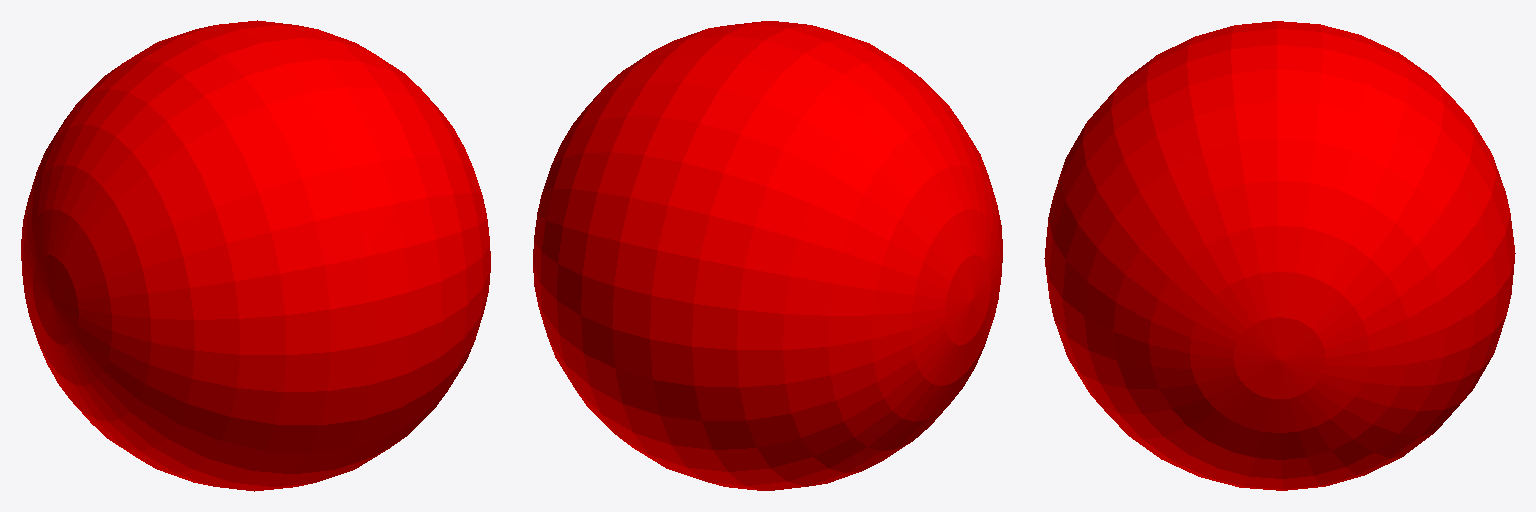
robot.urdf — panda:
<?xml version='1.0' encoding='utf-8'?>
<robot name="panda">
  
  <link name="panda_link0">
    <visual>
      <geometry>
        <mesh filename="../meshes/panda/link0.dae" />
      </geometry>
    </visual>
  </link>
  <link name="panda_link1">
    <visual>
      <geometry>
        <mesh filename="../meshes/panda/link1.dae" />
      </geometry>
    </visual>
  </link>
  
  
  <joint name="panda_joint1" type="revolute">
    <origin rpy="8.366805516041043e-06 8.814350308898128e-08 2.4513630387076608e-17" xyz="-1.2758753865242616e-16 -5.2222054042510136e-17 0.333" />
    <parent link="panda_link0" />
    <child link="panda_link1" />
    <axis xyz="0 0 1" />
    <limit effort="87.0" lower="-2.8973" upper="2.8973" velocity="2.175" />
    <safety_controller k_position="100.0" k_velocity="40.0" soft_lower_limit="-2.8973" soft_upper_limit="2.8973" />
  </joint>
  
  <link name="panda_link2">
    <visual>
      <geometry>
        <mesh filename="../meshes/panda/link2.dae" />
      </geometry>
    </visual>
  </link>
  
  <joint name="panda_joint2" type="revolute">
    <origin rpy="-1.5725347107345484 0.0009255042963167639 -2.2321032908662564e-15" xyz="-0.00019417564815309772 -0.00018772077543271004 1.796911857934499e-17" />
    <parent link="panda_link1" />
    <child link="panda_link2" />
    <axis xyz="0 0 1" />
    <limit effort="87.0" lower="-1.7628" upper="1.7628" velocity="2.175" />
    <safety_controller k_position="100.0" k_velocity="40.0" soft_lower_limit="-1.7628" soft_upper_limit="1.7628" />
  </joint>
  
  <link name="panda_link3">
    <visual>
      <geometry>
        <mesh filename="../meshes/panda/link3.dae" />
      </geometry>
    </visual>
  </link>
  
  <joint name="panda_joint3" type="revolute">
    <origin rpy="1.5720487481374692 0.00011271550591184526 0.0008189810488676046" xyz="0.0003371033096498455 -0.31626505724737547 -0.0001877201793910496" />
    <parent link="panda_link2" />
    <child link="panda_link3" />
    <axis xyz="0 0 1" />
    <limit effort="87.0" lower="-2.8973" upper="2.8973" velocity="2.175" />
    <safety_controller k_position="100.0" k_velocity="40.0" soft_lower_limit="-2.8973" soft_upper_limit="2.8973" />
  </joint>
  
  <link name="panda_link4">
    <visual>
      <geometry>
        <mesh filename="../meshes/panda/link4.dae" />
      </geometry>
    </visual>
  </link>
  
  <joint name="panda_joint4" type="revolute">
    <origin rpy="1.5741434757926136 0.011776708120902118 -9.025189862699405e-05" xyz="0.08250428687456778 -0.0002847200612681194 0.0002655680887159182" />
    <parent link="panda_link3" />
    <child link="panda_link4" />
    <axis xyz="0 0 1" />
    <limit effort="87.0" lower="-3.0718" upper="-0.0698" velocity="2.175" />
    <safety_controller k_position="100.0" k_velocity="40.0" soft_lower_limit="-3.0718" soft_upper_limit="-0.0698" />
  </joint>
  
  <link name="panda_link5">
    <visual>
      <geometry>
        <mesh filename="../meshes/panda/link5.dae" />
      </geometry>
    </visual>
  </link>
  
  <joint name="panda_joint5" type="revolute">
    <origin rpy="-1.569359416779495 0.005129171736623614 -0.01022805489571219" xyz="-0.07866941844576122 0.38493907517903264 0.000283829074942361" />
    <parent link="panda_link4" />
    <child link="panda_link5" />
    <axis xyz="0 0 1" />
    <limit effort="12.0" lower="-2.8973" upper="2.8973" velocity="2.61" />
    <safety_controller k_position="100.0" k_velocity="40.0" soft_lower_limit="-2.8973" soft_upper_limit="2.8973" />
  </joint>
  
  <link name="panda_link6">
    <visual>
      <geometry>
        <mesh filename="../meshes/panda/link6.dae" />
      </geometry>
    </visual>
  </link>
  
  <joint name="panda_joint6" type="revolute">
    <origin rpy="1.5705258868617893 -0.00043533480446275005 0.005114480048959338" xyz="0.0006537446895798644 -1.275492785867517e-05 0.0009786397273711831" />
    <parent link="panda_link5" />
    <child link="panda_link6" />
    <axis xyz="0 0 1" />
    <limit effort="12.0" lower="-0.0175" upper="3.7525" velocity="2.61" />
    <safety_controller k_position="100.0" k_velocity="40.0" soft_lower_limit="-0.0175" soft_upper_limit="3.7525" />
  </joint>
  
  <link name="panda_link7">
    <visual>
      <geometry>
        <mesh filename="../meshes/panda/link7.dae" />
      </geometry>
    </visual>
  </link>
  
  <joint name="panda_joint7" type="revolute">
    <origin rpy="1.5707208785930096 2.6320186308338895e-08 0.0005154940135814471" xyz="0.0902493646325364 -0.0008951821978016663 1.636289653042385e-05" />
    <parent link="panda_link6" />
    <child link="panda_link7" />
    <axis xyz="0 0 1" />
    <limit effort="12.0" lower="-2.8973" upper="2.8973" velocity="2.61" />
    <safety_controller k_position="100.0" k_velocity="40.0" soft_lower_limit="-2.8973" soft_upper_limit="2.8973" />
  </joint>
  <link name="panda_link8" />
  <joint name="panda_joint8" type="fixed">
    <origin rpy="0 0 0" xyz="0 0 0.107" />
    <parent link="panda_link7" />
    <child link="panda_link8" />
  </joint>
  <joint name="panda_hand_joint" type="fixed">
    <parent link="panda_link8" />
    <child link="panda_hand" />
    <origin rpy="0 0 -0.7853981633974483" xyz="0 0 0" />
  </joint>
  
  <link name="panda_hand">
    <visual>
      <geometry>
        <mesh filename="../meshes/panda/hand.dae" />
      </geometry>
    </visual>
  </link>
  <link name="panda_hand_tcp" />
  <joint name="panda_hand_tcp_joint" type="fixed">
    <origin rpy="0 0 0" xyz="0 0 0.1034" />
    <parent link="panda_hand" />
    <child link="panda_hand_tcp" />
  </joint>
  <link name="ball_link">
    <visual>
      <material name="red">
        <color rgba="1 0 0 1" />
      </material>

      <geometry>
        <sphere radius="0.005" />
      </geometry>
    </visual>
  </link>

  <joint name="ball_joint" type="fixed">
    <origin rpy="0.0 0.0 0.0" xyz="0.00037990524928465026 -4.420572608777121e-05 0.03102464075322382" />
    <parent link="panda_hand_tcp" />
    <child link="ball_link" />
  </joint>
  
  <link name="panda_leftfinger">
    <visual>
      <geometry>
        <mesh filename="../meshes/panda/finger.dae" />
      </geometry>
    </visual>
  </link>
  <link name="panda_rightfinger">
    <visual>
      <origin rpy="0 0 3.141592653589793" xyz="0 0 0" />
      <geometry>
        <mesh filename="../meshes/panda/finger.dae" />
      </geometry>
    </visual>
  </link>

  

    <joint name="panda_finger_joint1" type="prismatic">
    <parent link="panda_hand" />
    <child link="panda_leftfinger" />
    <origin rpy="0 0 0" xyz="0 0 0.0584" />
    <axis xyz="0 1 0" />
    <limit effort="100" lower="0.0" upper="0.04" velocity="0.2" />
    <dynamics damping="0.3" />
  </joint>
  <joint name="panda_finger_joint2" type="prismatic">
    <parent link="panda_hand" />
    <child link="panda_rightfinger" />
    <origin rpy="0 0 0" xyz="0 0 0.0584" />
    <axis xyz="0 -1 0" />
    <limit effort="100" lower="0.0" upper="0.04" velocity="0.2" />
    <mimic joint="panda_finger_joint1" />
    <dynamics damping="0.3" />
  </joint>
</robot>

--- Facts derived from the render (not from the file) ---
Views: 3 orthographic renders of the robot side by side, from view 1: azimuth 30°, elevation 25°; view 2: azimuth 150°, elevation 25°; view 3: azimuth 270°, elevation 25°.
Model panda with 14 links and 13 joints (7 revolute, 2 prismatic, 4 fixed), rooted at panda_link0, posed all joints at 0 but 1 set to mid-range because 0 is outside their limits (panda_joint4 = -1.57).
Visible links, largest first — view 1: ball_link; view 2: ball_link; view 3: ball_link.
Boxes of the visible links, <box> form: ball_link: <box>21,20,490,491</box>; ball_link: <box>533,21,1002,490</box>; ball_link: <box>1044,21,1515,490</box>.
Size in the robot's own frame: 0.01 by 0.01 by 0.01 metres.
Meshes: 10 distinct files referenced, 0 mesh visuals loaded (none loaded); not drawn: 11 (reference not matched to a file when rendering).